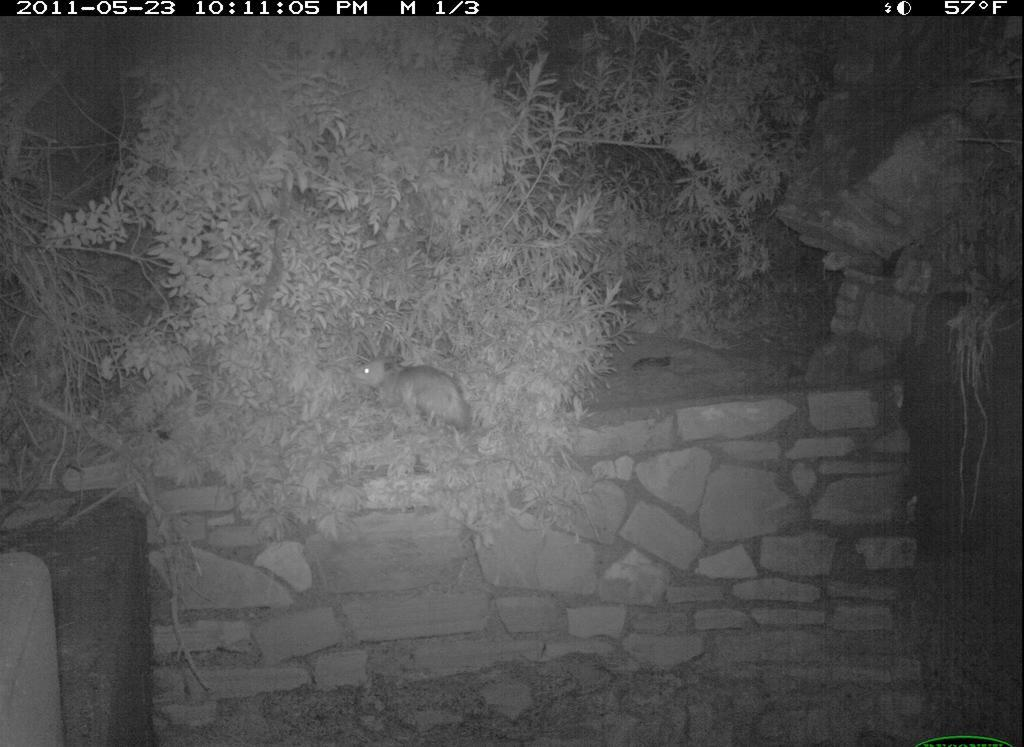opossum: (345, 345, 486, 447)
